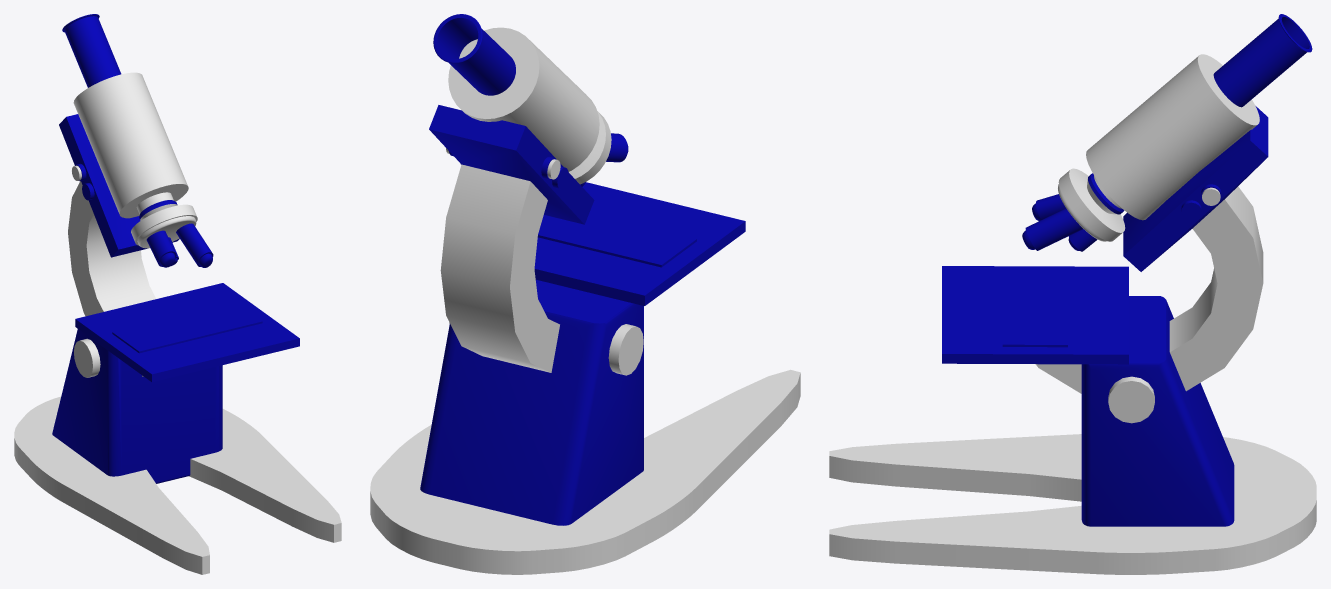
File: Microscopioblend.fbx
The picture shows the model from 3 angles, left to right: view 1: azimuth 30°, elevation 25°; view 2: azimuth 150°, elevation 25°; view 3: azimuth 270°, elevation 25°; orthographic projection. The views are drawn at different scales.
Parts seen in each view (by area): view 1: Cylinder.002, Cylinder, Cube, Cylinder.005, Cylinder.007, Cylinder.001, Cylinder.008; view 2: Cylinder.002, Cube, Cylinder, Cylinder.005, Cylinder.001; view 3: Cylinder, Cylinder.002, Cube, Cylinder.005, Cylinder.001, Cylinder.007.
Boxes of the visible parts, x1,y1,x2,y2 form: Cylinder.002: (59,114,299,382); Cylinder: (14,396,341,574); Cube: (52,329,222,483); Cylinder.005: (62,14,197,248); Cylinder.007: (176,223,213,267); Cylinder.001: (74,338,100,377); Cylinder.008: (146,230,176,267); Cylinder.002: (429,105,745,372); Cube: (420,279,643,525); Cylinder: (370,369,800,574); Cylinder.005: (433,14,611,184); Cylinder.001: (449,322,643,375); Cylinder: (829,434,1316,574); Cylinder.002: (942,106,1268,393); Cube: (1081,296,1234,526); Cylinder.005: (1058,14,1312,241); Cylinder.001: (1108,376,1154,423); Cylinder.007: (1022,208,1082,250).
Bounding box in the file's own units: 458 × 881 × 782.
